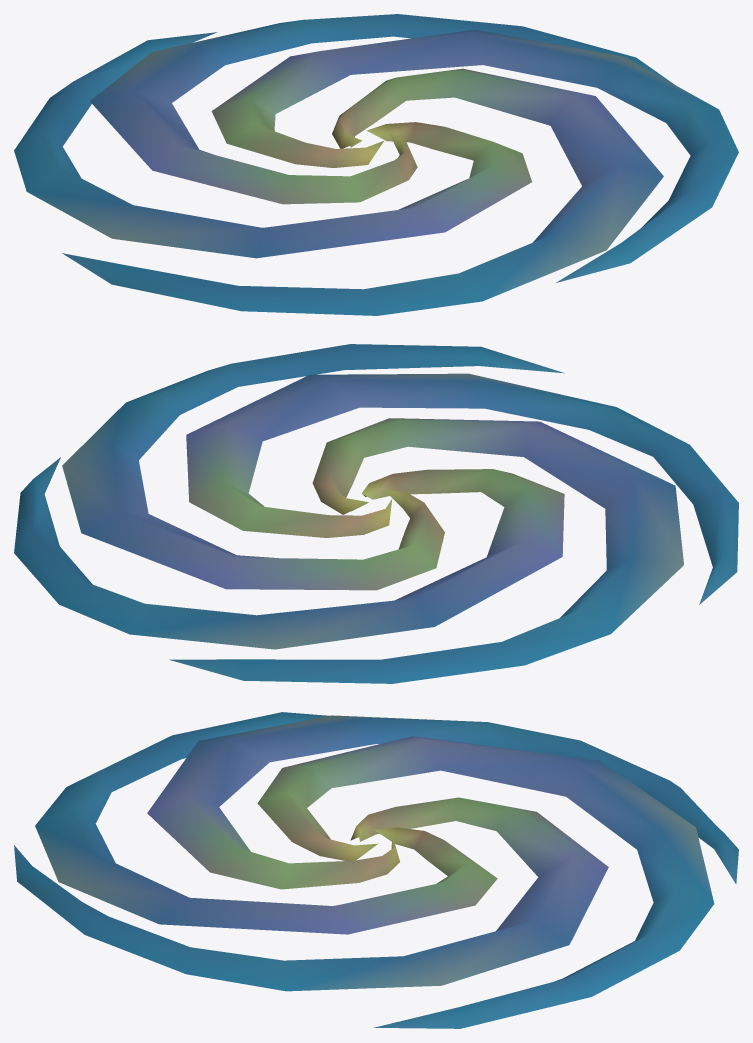
The model's file is space-galaxies-spiral-galaxy_v15.glb.
The picture shows the model from 3 angles, top to bottom: view 1: azimuth 30°, elevation 25°; view 2: azimuth 150°, elevation 25°; view 3: azimuth 270°, elevation 25°; orthographic projection.
Visible parts, largest first — view 1: Spiral Galaxy_v15; view 2: Spiral Galaxy_v15; view 3: Spiral Galaxy_v15.
Boxes of the visible parts, <box> form: Spiral Galaxy_v15: <box>14,14,738,315</box>; Spiral Galaxy_v15: <box>14,344,738,683</box>; Spiral Galaxy_v15: <box>14,712,738,1028</box>.
Bounding box in the file's own units: 0.4981 × 0.0426 × 0.5.
